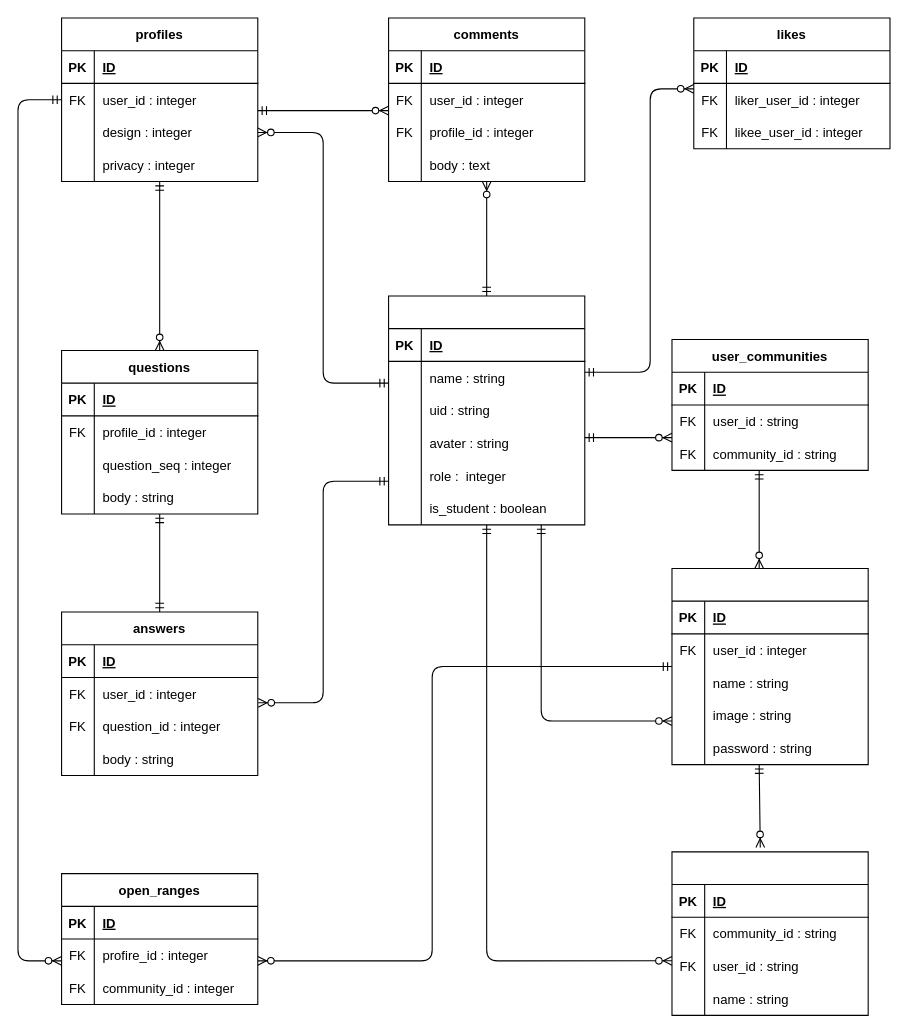
This 908x1033 diagram has some shape labels left out. Here are the shapes that lost their labels. From the top down, the box of each, then its label:
(387, 295, 585, 525): users
(671, 567, 868, 765): communities
(671, 851, 868, 1015): groups
